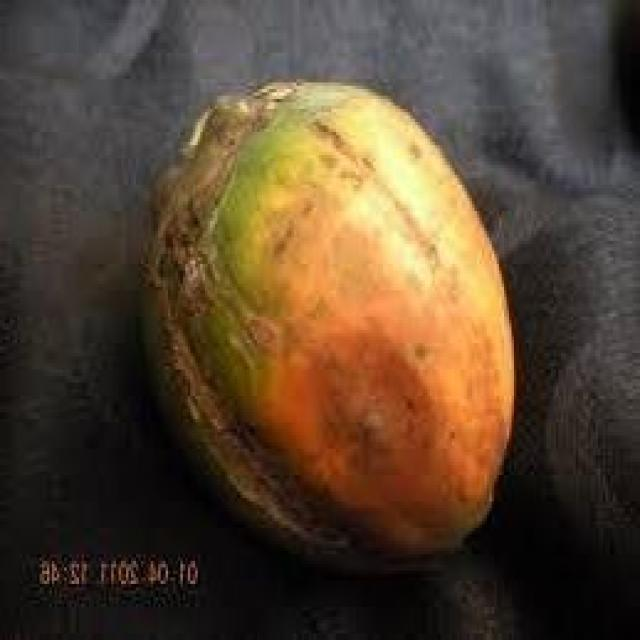good: (138, 79, 519, 577)
